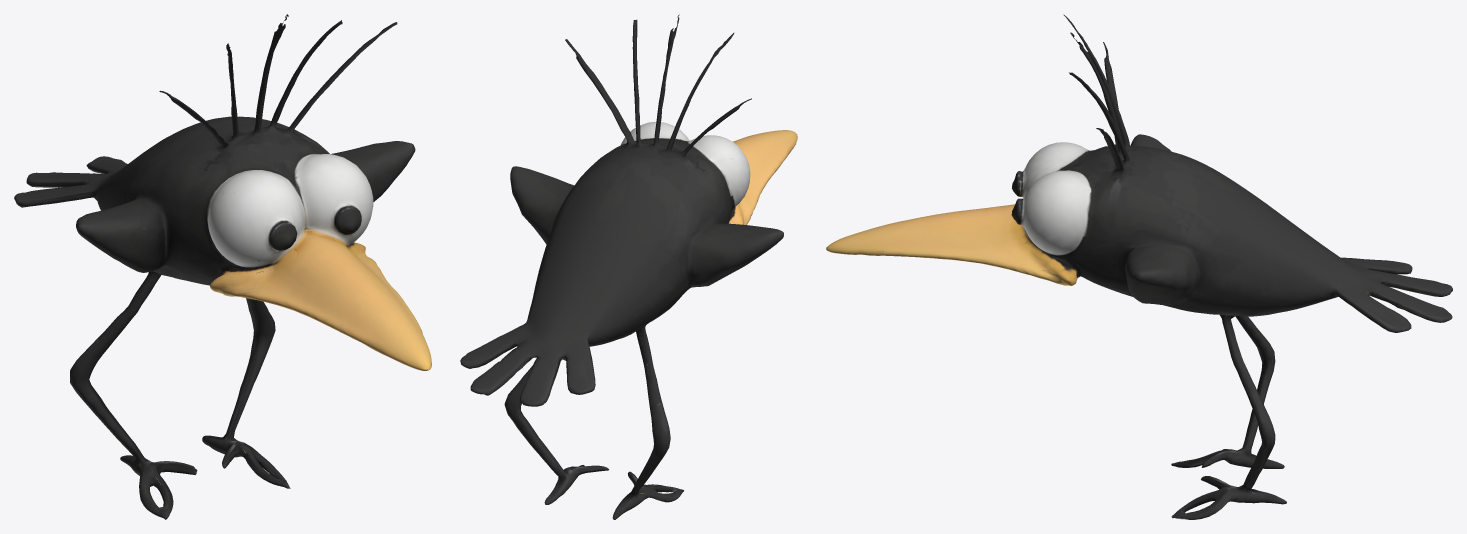
The model's file is bird_1207134618_texture.fbx.
3 renders of one model, left to right at view 1: azimuth 30°, elevation 25°; view 2: azimuth 150°, elevation 25°; view 3: azimuth 270°, elevation 25°, orthographic. The views are drawn at different scales.
Visible parts, largest first — view 1: Mesh_0; view 2: Mesh_0; view 3: Mesh_0.
Boxes of the visible parts, box(x1,y1,x2,y2) form: Mesh_0: box(14, 14, 431, 519); Mesh_0: box(460, 14, 797, 519); Mesh_0: box(826, 14, 1452, 519).
Bounding box in the file's own units: 102 × 155 × 191.
Materials: 1 (1 with a texture image).
